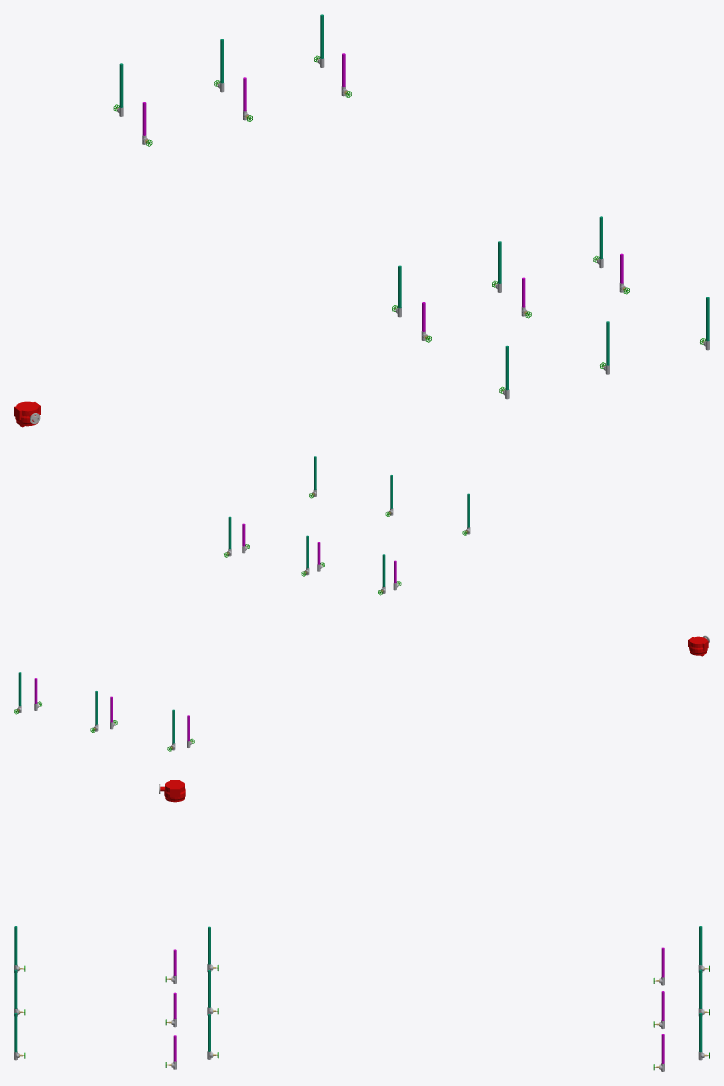
The picture shows the model from 3 angles, top to bottom: view 1: azimuth 30°, elevation 25°; view 2: azimuth 150°, elevation 25°; view 3: azimuth 270°, elevation 25°; orthographic projection. The views are drawn at different scales.
Size of the model in its own units: 5.46 by 0.5555 by 6.1.
